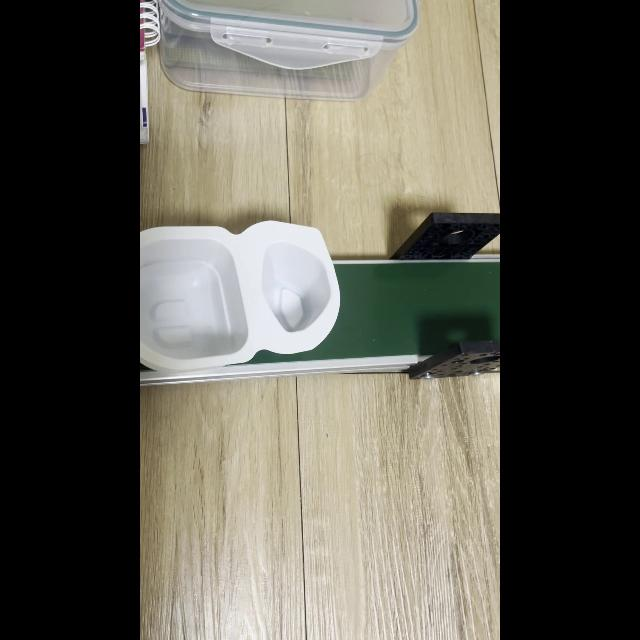clean: (144, 235, 326, 357)
